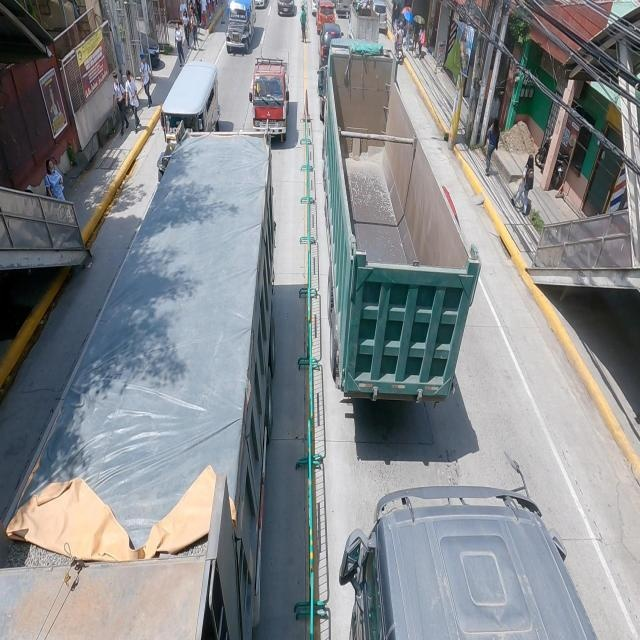Truck: (247, 55, 291, 141)
